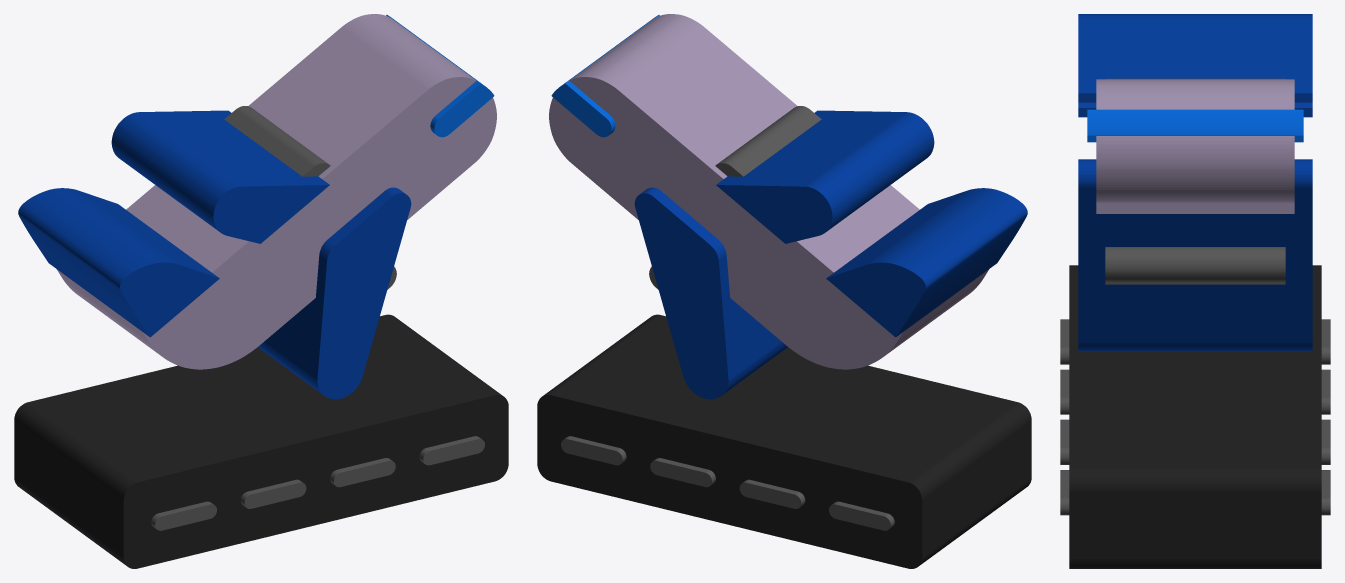
The picture shows the model from 3 angles, left to right: view 1: azimuth 30°, elevation 25°; view 2: azimuth 150°, elevation 25°; view 3: azimuth 270°, elevation 25°; orthographic projection. The views are drawn at different scales.
Parts seen in each view (by area): view 1: U+1F6EB_layer04_obj00, U+1F6EB_layer01_obj00, U+1F6EB_layer03_obj00, U+1F6EB_layer05_obj00, U+1F6EB_layer00_obj00, U+1F6EB_layer02_obj00; view 2: U+1F6EB_layer04_obj00, U+1F6EB_layer01_obj00, U+1F6EB_layer03_obj00, U+1F6EB_layer05_obj00, U+1F6EB_layer00_obj00, U+1F6EB_layer02_obj00; view 3: U+1F6EB_layer04_obj00, U+1F6EB_layer03_obj00, U+1F6EB_layer01_obj00, U+1F6EB_layer00_obj00, U+1F6EB_layer02_obj00, U+1F6EB_layer05_obj00.
Boxes of the visible parts, x1,y1,x2,y2 form: U+1F6EB_layer04_obj00: [14, 314, 508, 568]; U+1F6EB_layer01_obj00: [56, 14, 496, 369]; U+1F6EB_layer03_obj00: [18, 110, 411, 399]; U+1F6EB_layer05_obj00: [151, 436, 484, 530]; U+1F6EB_layer00_obj00: [224, 106, 396, 289]; U+1F6EB_layer02_obj00: [386, 15, 494, 137]; U+1F6EB_layer04_obj00: [537, 314, 1031, 568]; U+1F6EB_layer01_obj00: [549, 14, 989, 369]; U+1F6EB_layer03_obj00: [634, 110, 1027, 399]; U+1F6EB_layer05_obj00: [561, 436, 894, 530]; U+1F6EB_layer00_obj00: [649, 106, 821, 289]; U+1F6EB_layer02_obj00: [551, 15, 659, 137]; U+1F6EB_layer04_obj00: [1069, 265, 1321, 568]; U+1F6EB_layer03_obj00: [1078, 14, 1312, 351]; U+1F6EB_layer01_obj00: [1096, 79, 1294, 213]; U+1F6EB_layer00_obj00: [1105, 78, 1285, 284]; U+1F6EB_layer02_obj00: [1087, 109, 1303, 142]; U+1F6EB_layer05_obj00: [1060, 319, 1330, 515].
Size of the model in its own units: 0.5678 by 0.5677 by 0.3.
